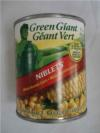corn: (14, 14, 87, 120)
